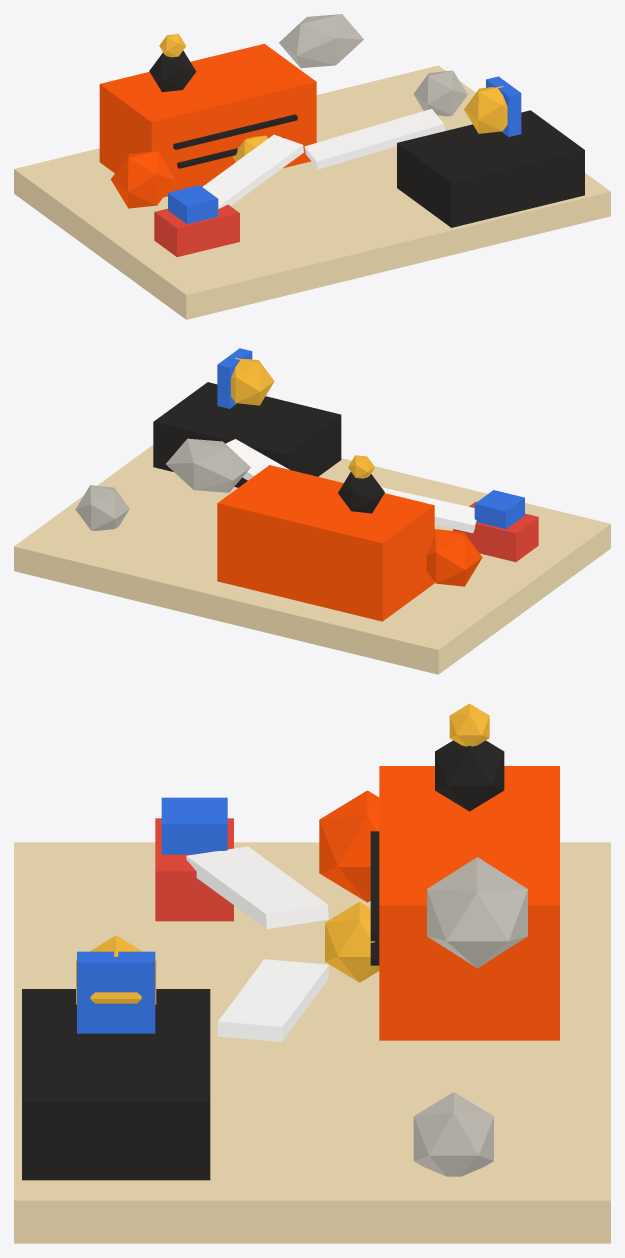
File: karasuno.glb
3 views of the same model, one above another, from view 1: azimuth 30°, elevation 25°; view 2: azimuth 150°, elevation 25°; view 3: azimuth 270°, elevation 25° (orthographic). The views are drawn at different scales.
Size of the model in its own units: 5.4 by 1.94 by 3.8.
